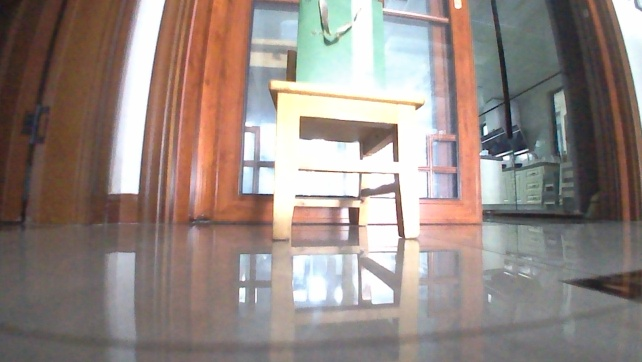cupboard1: (501, 160, 560, 210)
